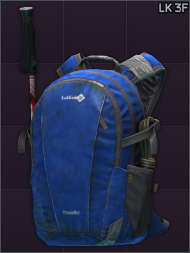LK 3F Transfer tourist backpack: (0, 0, 190, 253)
